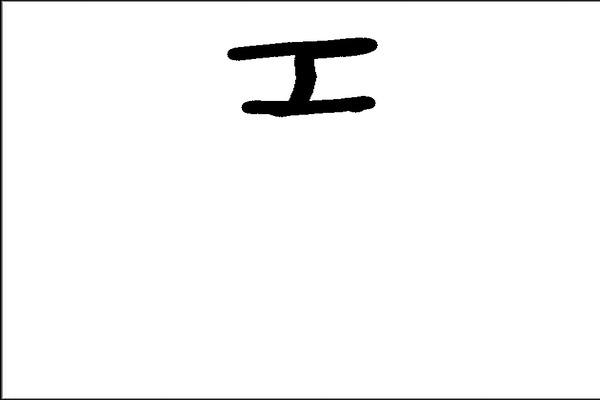i: (219, 26, 391, 122)
